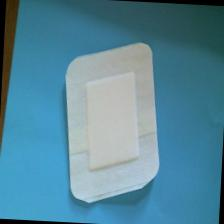Dressing: (58, 37, 168, 210)
